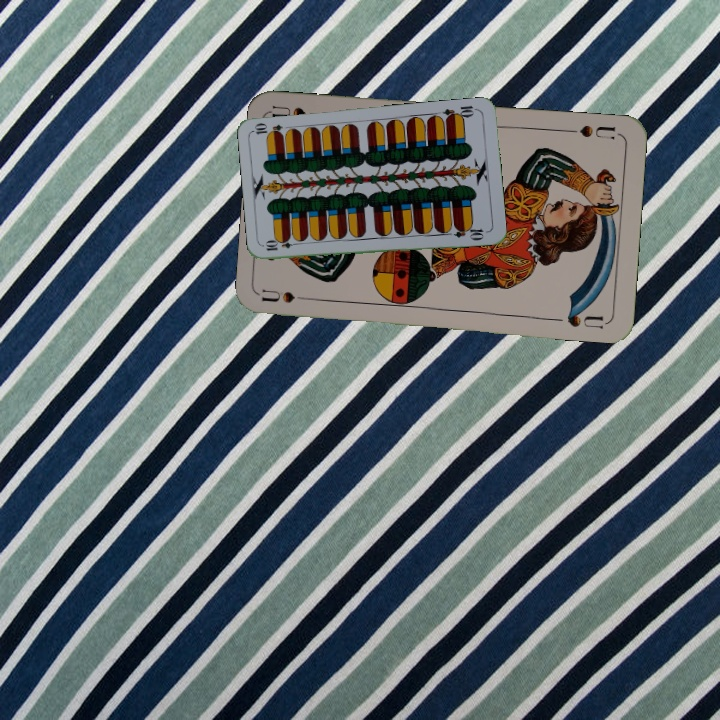E10: (439, 102, 480, 123), (261, 237, 302, 254)
SU: (562, 120, 618, 142), (259, 285, 319, 305)
